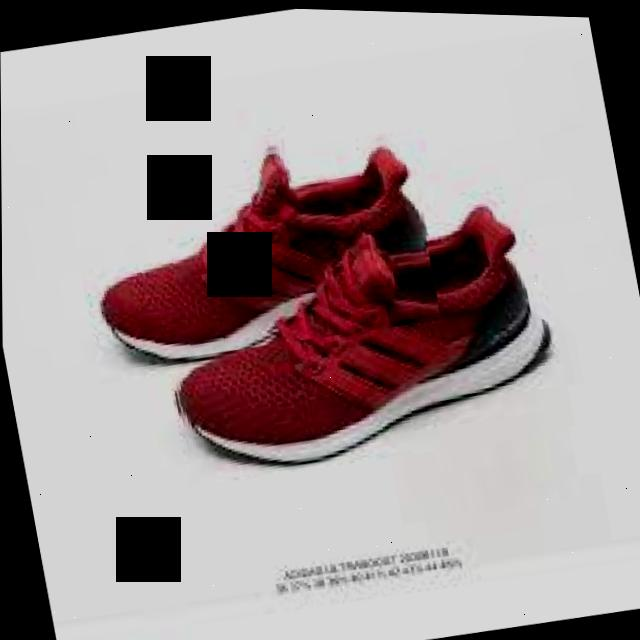shoe: (147, 186, 582, 490), (68, 112, 441, 376)
